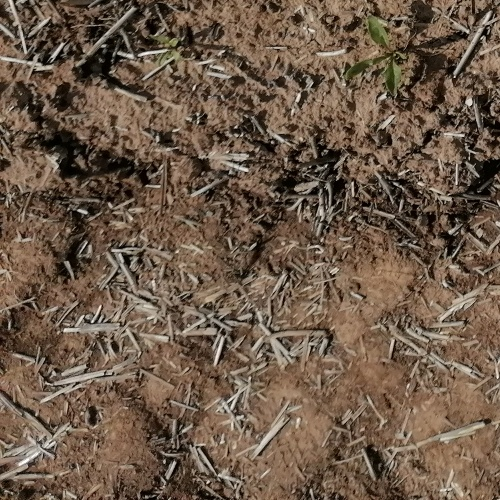beet: (347, 14, 403, 100), (150, 35, 179, 62)
